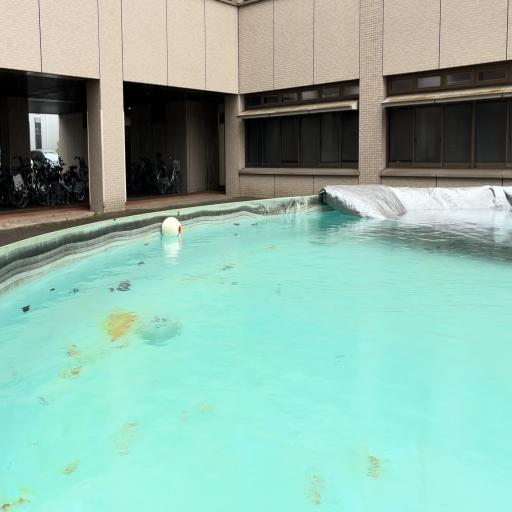white buoy: (162, 216, 181, 238)
